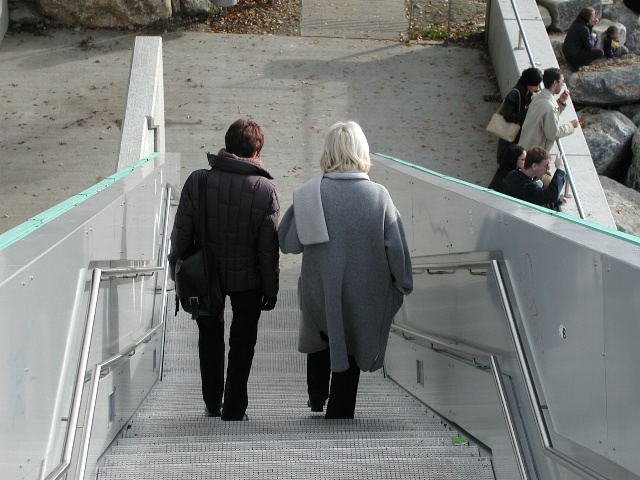person: (276, 117, 415, 417), (168, 120, 280, 418)
